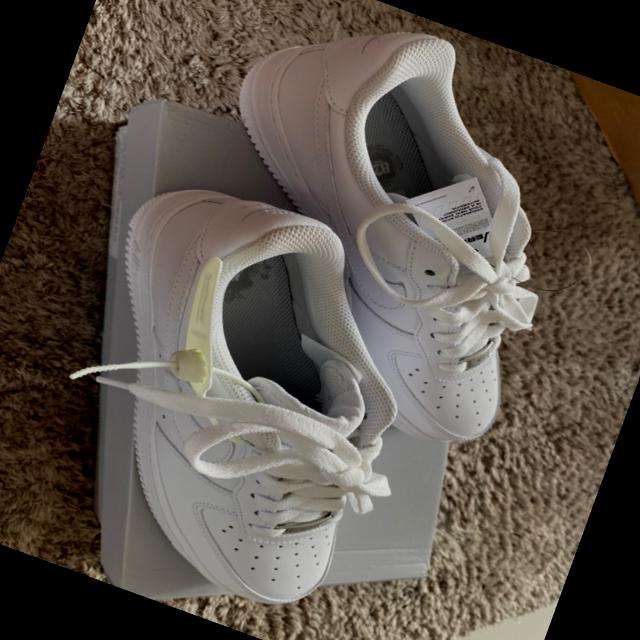nike_original_airforce: (139, 0, 627, 468), (21, 159, 492, 640)
